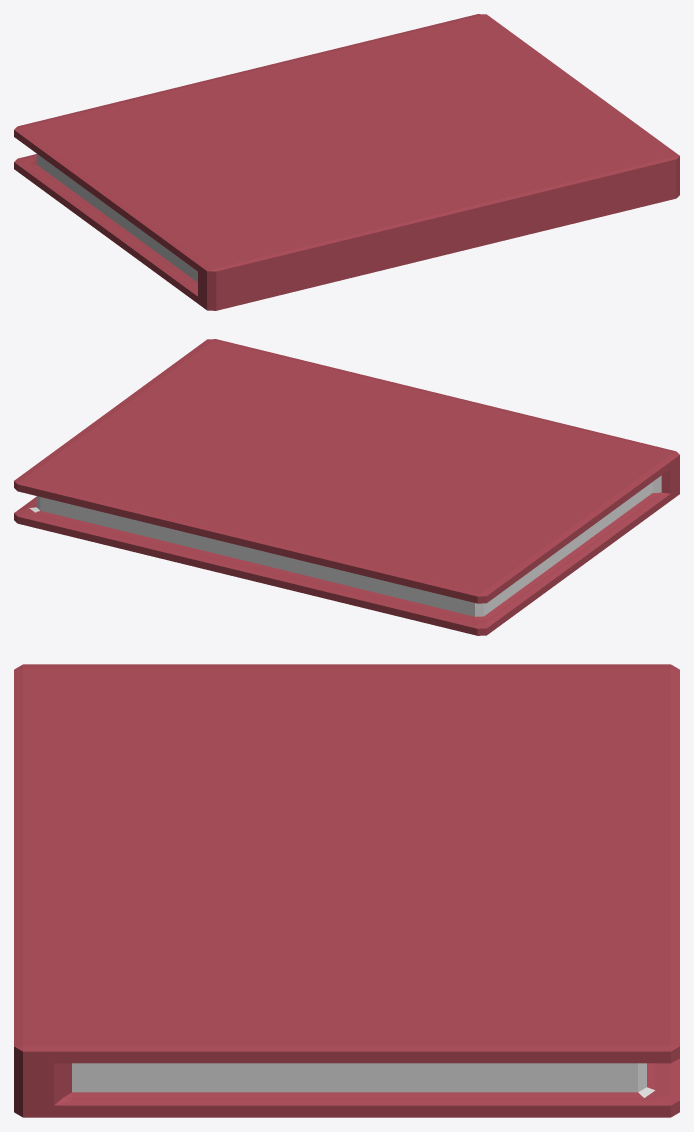
Rendered from book2.fbx.
3 views of the same model, one above another, from view 1: azimuth 30°, elevation 25°; view 2: azimuth 150°, elevation 25°; view 3: azimuth 270°, elevation 25° (orthographic). The views are drawn at different scales.
Visible parts, largest first — view 1: Cube; view 2: Cube; view 3: Cube.
Boxes of the visible parts, x1,y1,x2,y2 form: Cube: (14, 14, 679, 310); Cube: (14, 339, 679, 635); Cube: (14, 664, 679, 1117).
Size of the model in its own units: 55.89 by 4.56 by 40.63.
